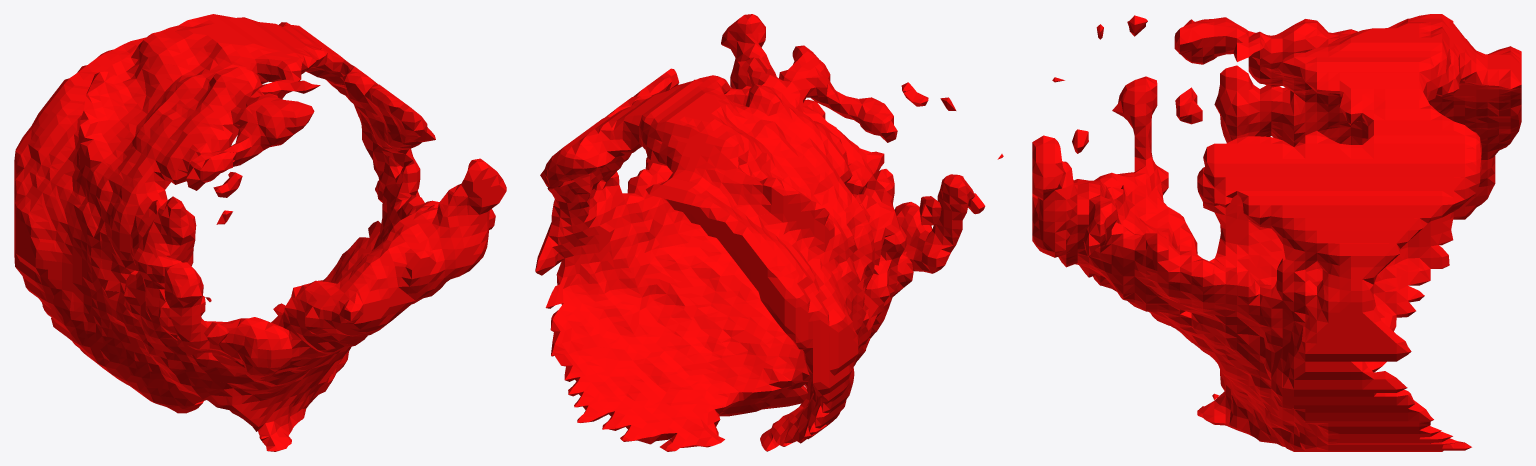
The model's file is B939XXXX-1_valve_0.obj.
The picture shows the model from 3 angles, left to right: view 1: azimuth 30°, elevation 25°; view 2: azimuth 150°, elevation 25°; view 3: azimuth 270°, elevation 25°; orthographic projection. The views are drawn at different scales.
Visible parts, largest first — view 1: 0_valve; view 2: 0_valve; view 3: 0_valve.
Part boxes in pixels (x1,y1,x2,y2): 0_valve: (14,14,506,451); 0_valve: (535,14,1003,451); 0_valve: (1032,14,1521,451).
Bounding box in the file's own units: 77.98 × 76.97 × 85.95.
